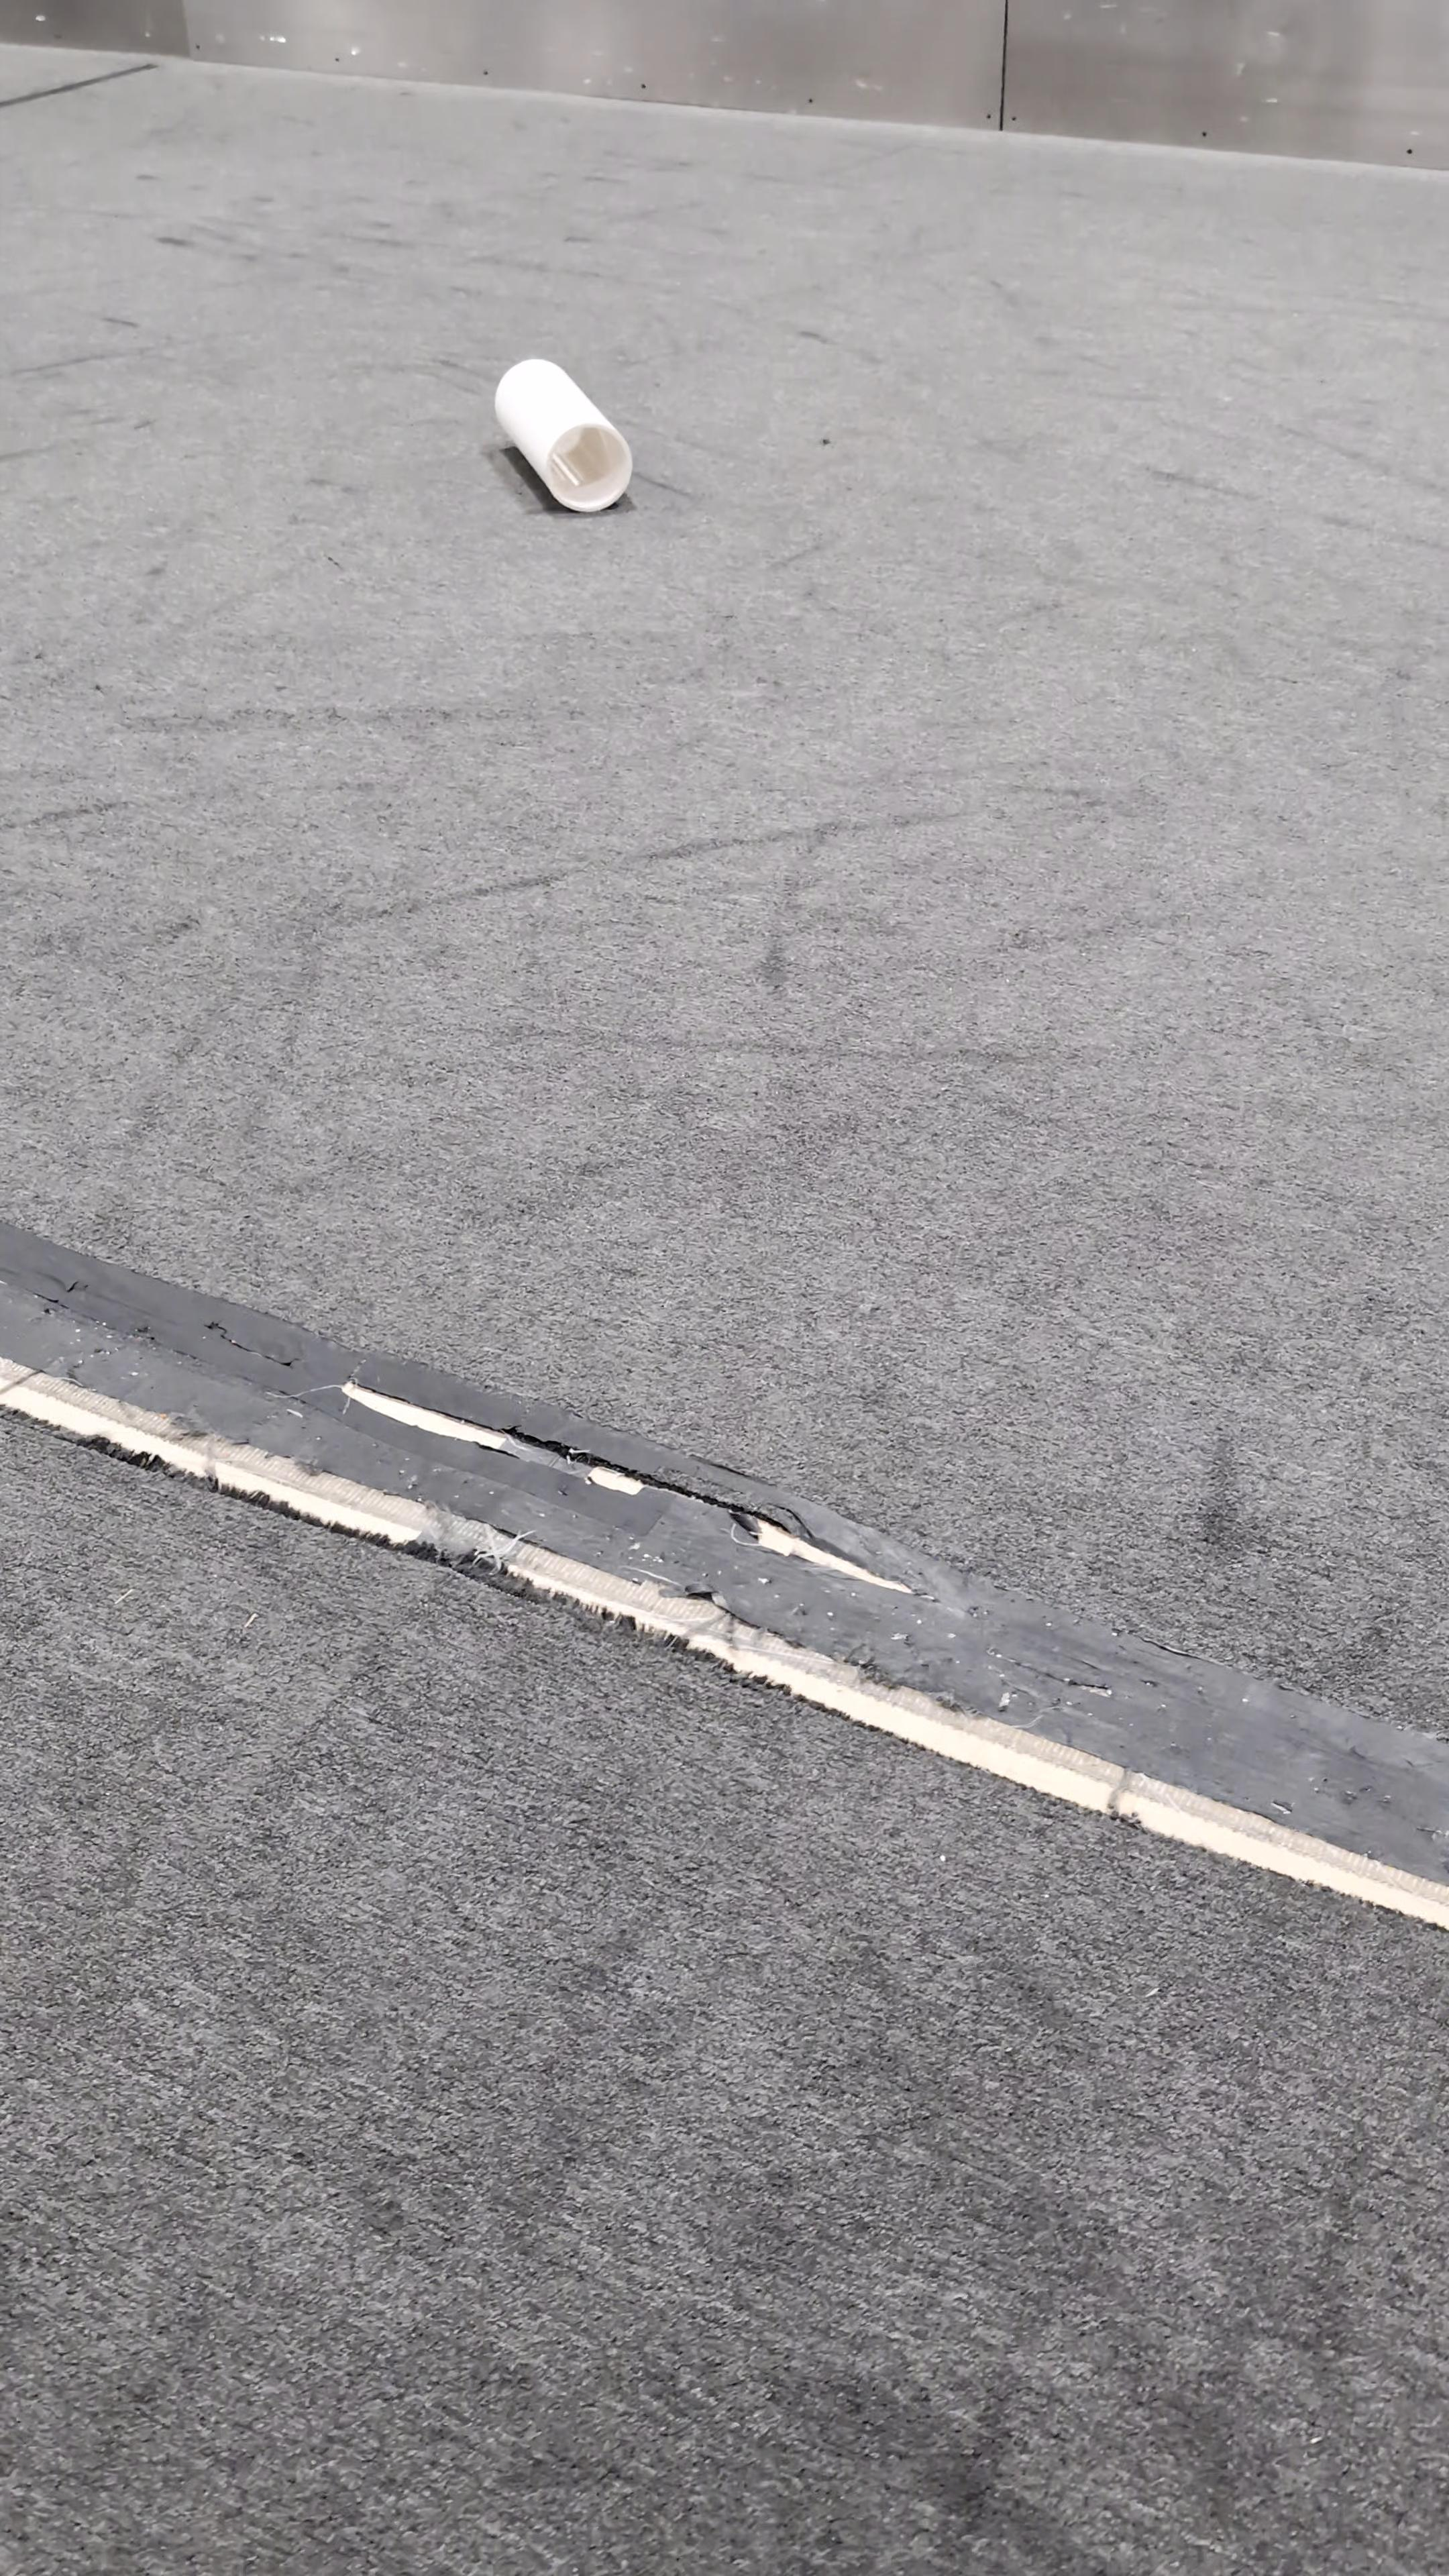coral: (492, 352, 639, 511)
